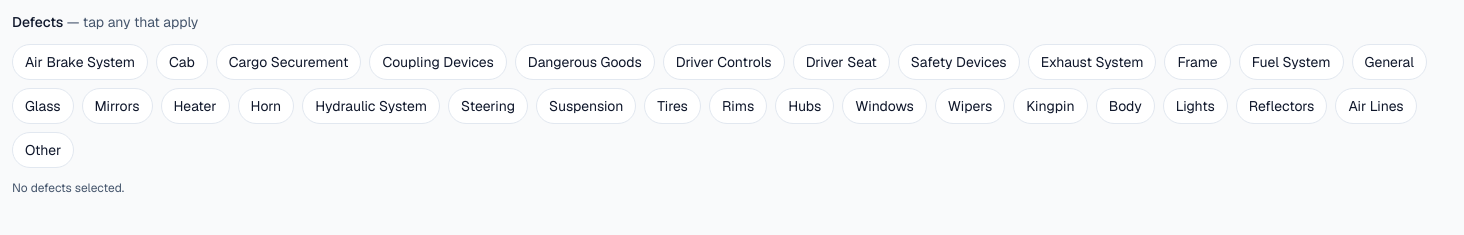
it: DefectPicker › clears everything at once
Click the button "Horn": (266, 106) [238,88,294,124]
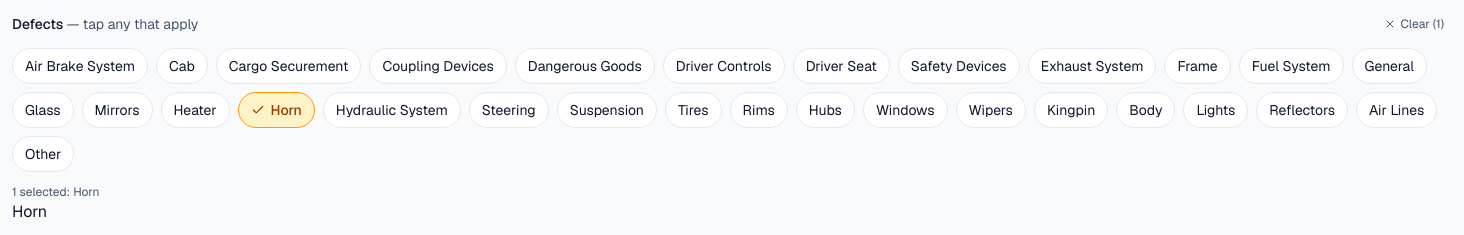
Click the button "Clear (1)": (1414, 24) [1376,12,1452,36]
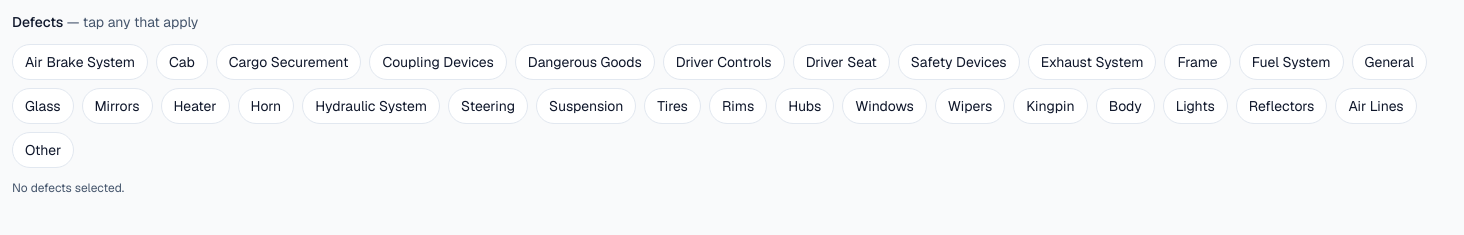
Check: the button "Clear" is gone
